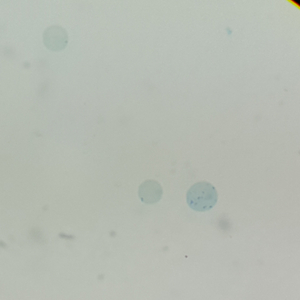aggregate reticulocyte: (186, 180, 219, 213)
punctate reticulocyte: (42, 25, 70, 53), (137, 179, 164, 205)
